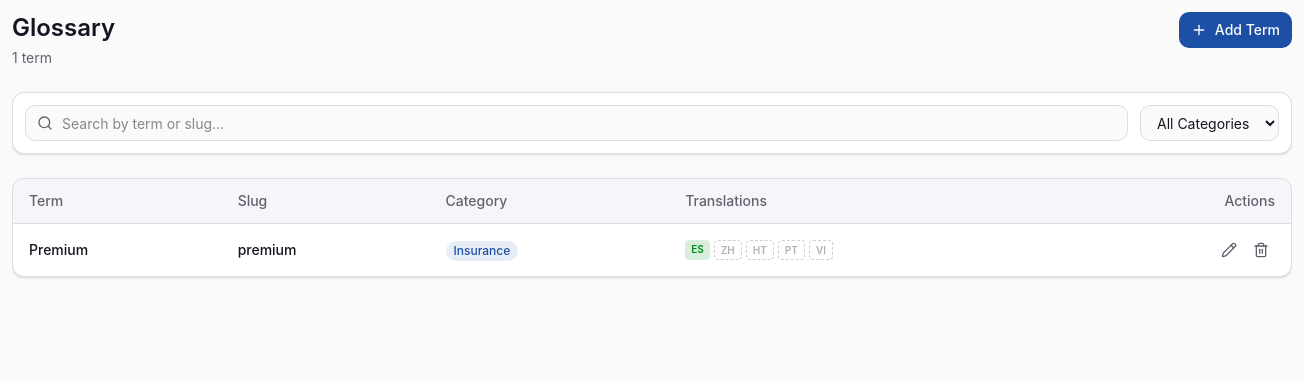
Test: AdminGlossaryPage › loads and filters glossary terms
This screenshot has width=1304, height=383.
Check: the text "Premium" is shown, box [13,224,222,276]
Check: the text "premium" is shown, box [222,224,430,276]
Step 1. Type "missing" into the field with placeholder "Search by term or slug..." → (576, 123), box [25,105,1128,141]
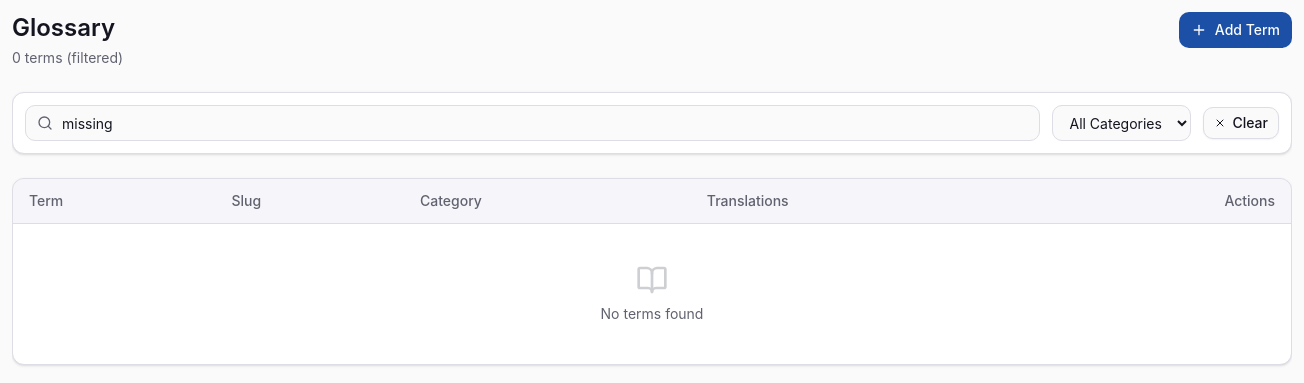
Check: the text "No terms found" is shown, box [13,224,1291,364]
Step 2. Click the button "Clear" → (1241, 123), box [1204,107,1279,139]
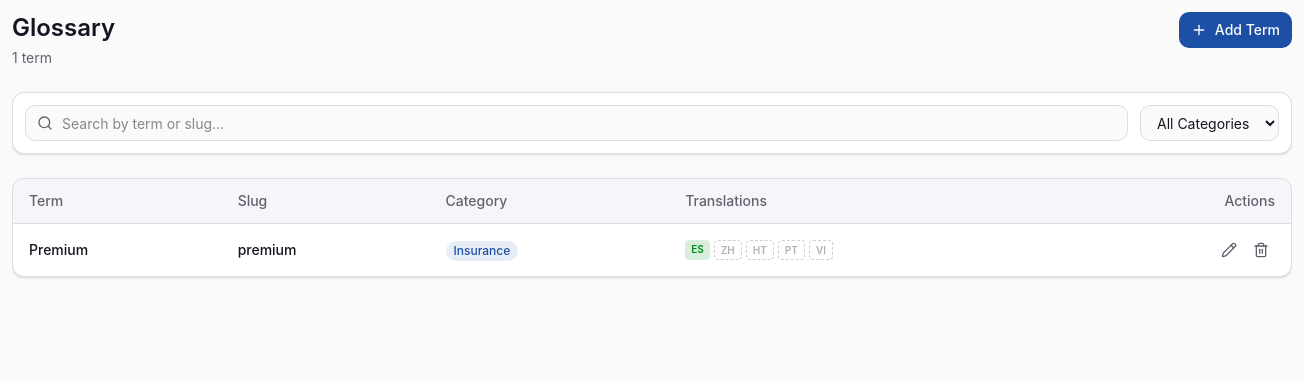
Check: the text "Premium" is shown, box [13,224,222,276]
